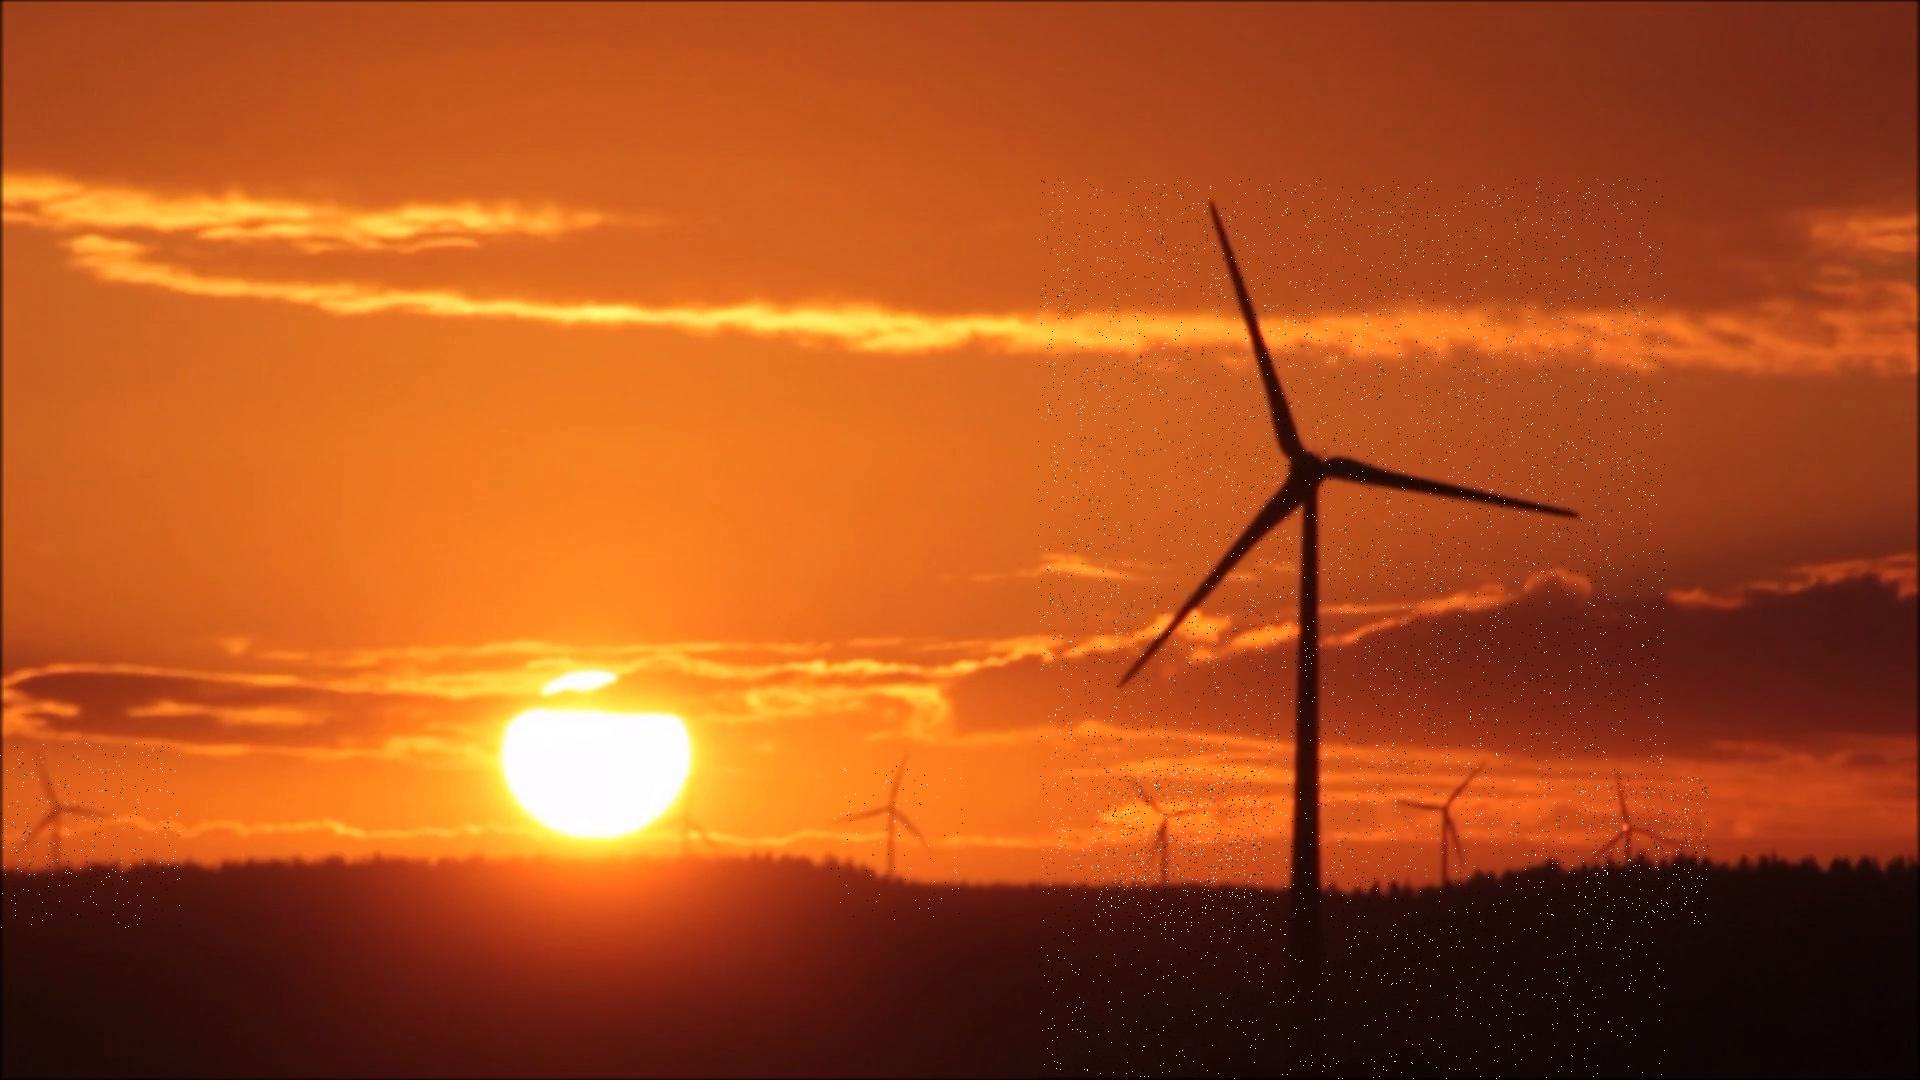turbine: (1038, 179, 1665, 1080), (0, 742, 179, 928), (1093, 767, 1267, 932), (1379, 771, 1534, 922), (829, 765, 965, 922), (1584, 778, 1709, 927), (647, 777, 746, 902)
